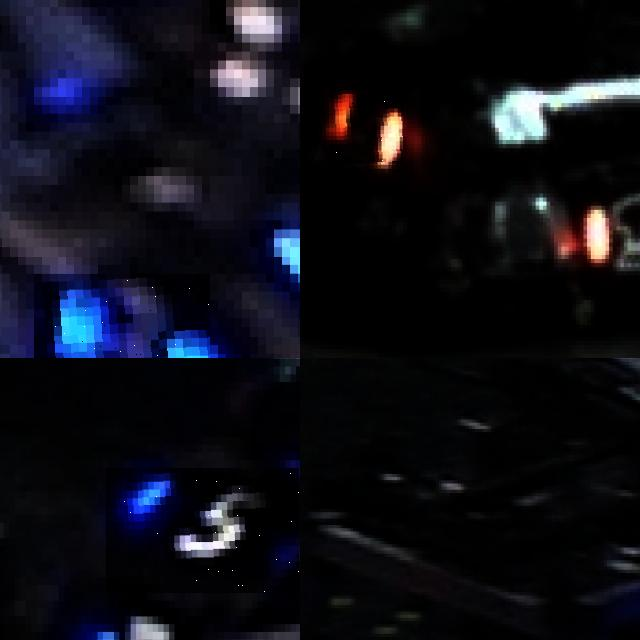B3: (34, 273, 210, 358)
B5: (106, 468, 299, 593), (69, 597, 202, 640)
Rs: (330, 86, 403, 164), (587, 193, 640, 263)
